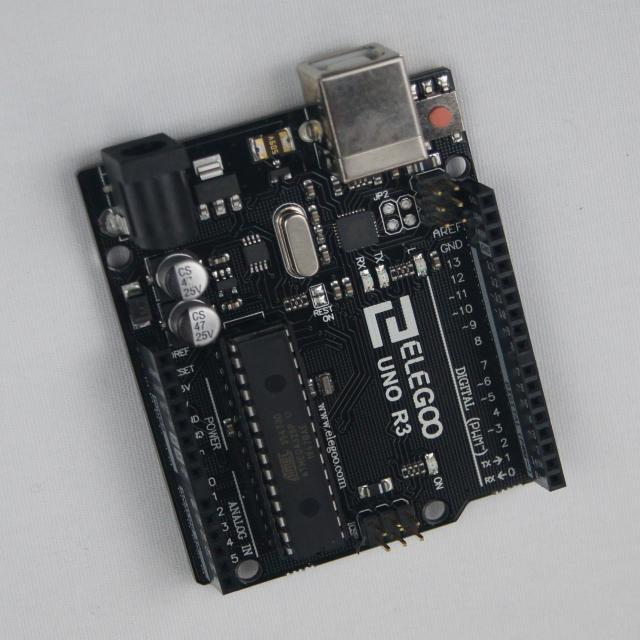Arduino Uno -Black-: (78, 46, 564, 594)
